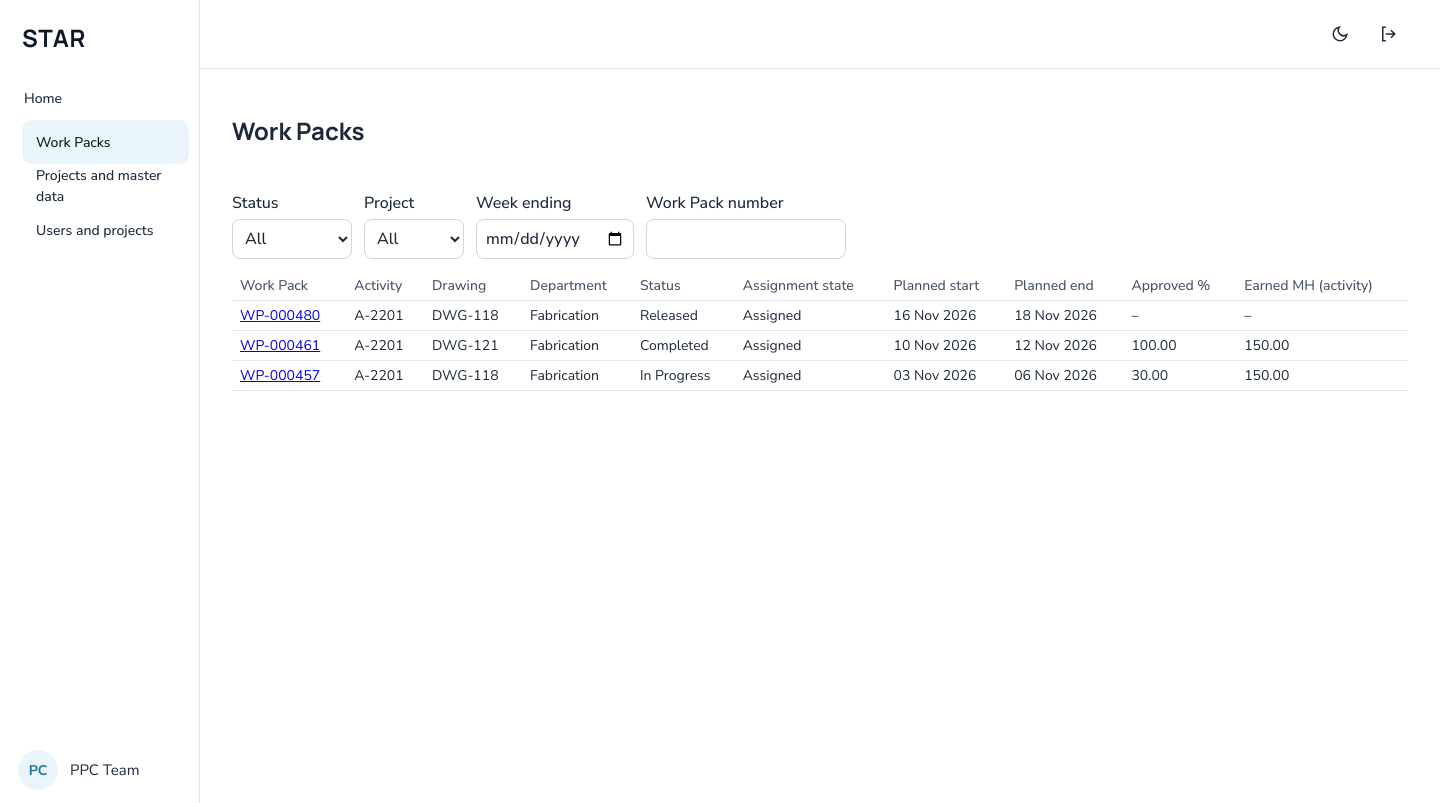
Test: WorkPacksPage › BPA72_openWorkPackFromList
Click the row "WP-000457". click: (820, 375)
box: [232,360,1408,390]
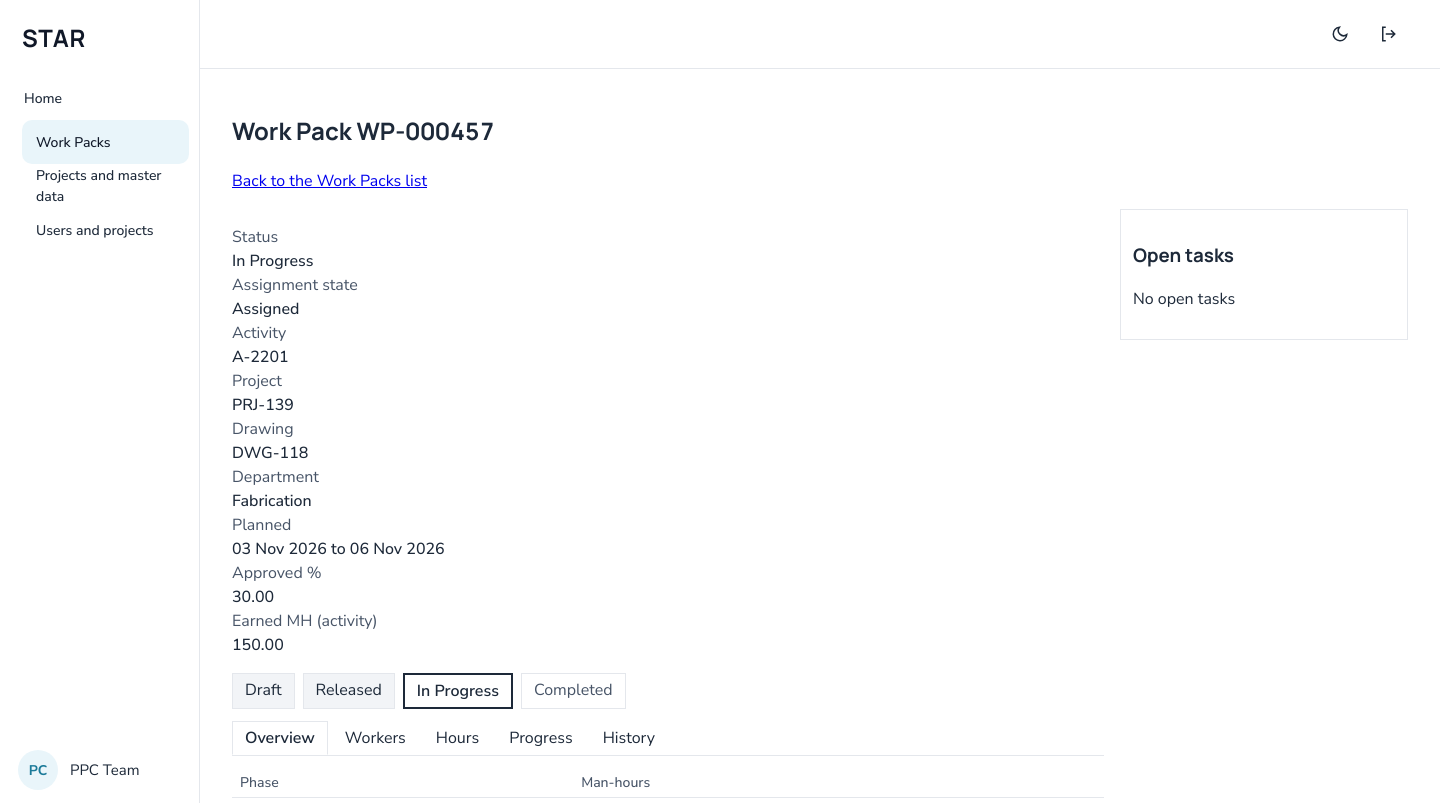
expect the heading "Work Pack WP-000457" is shown: met, box [232,114,495,147]
